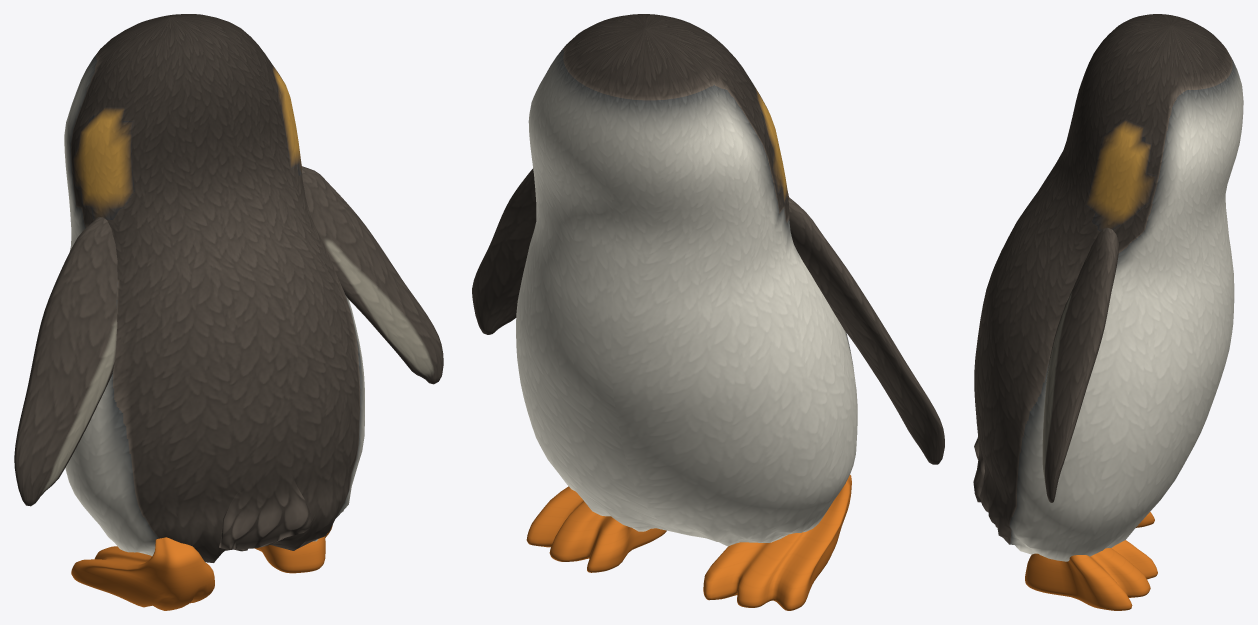
Rendered from candidate.glb.
The picture shows the model from 3 angles, left to right: view 1: azimuth 30°, elevation 25°; view 2: azimuth 150°, elevation 25°; view 3: azimuth 270°, elevation 25°; orthographic projection. The views are drawn at different scales.
Parts seen in each view (by area): view 1: RearBlockout; view 2: RearBlockout; view 3: RearBlockout.
Boxes of the visible parts, x1,y1,x2,y2 form: RearBlockout: (14, 14, 443, 610); RearBlockout: (472, 14, 944, 610); RearBlockout: (973, 14, 1243, 610).
Bounding box in the file's own units: 1.46 × 1.69 × 0.7898.
1 material, 1 textured.
